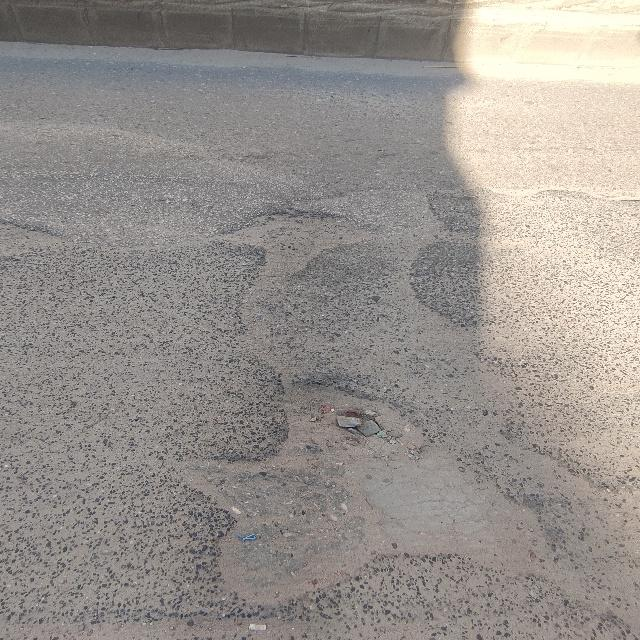Surface Erosion: (162, 150, 626, 640)
